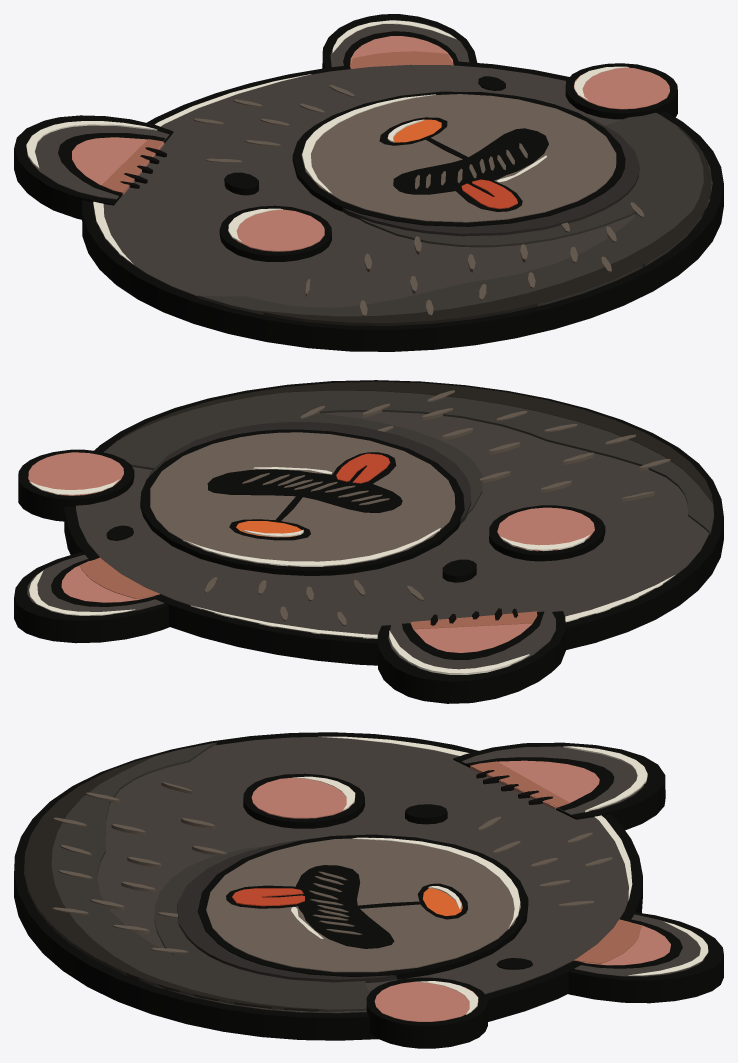
The model's file is IconZustand.glb.
3 views of the same model, one above another, from view 1: azimuth 30°, elevation 25°; view 2: azimuth 150°, elevation 25°; view 3: azimuth 270°, elevation 25° (orthographic). The views are drawn at different scales.
Visible parts, largest first — view 1: IconZustand; view 2: IconZustand; view 3: IconZustand.
Boxes of the visible parts, box(x1,y1,x2,y2) form: IconZustand: box(14, 14, 723, 351); IconZustand: box(14, 380, 723, 703); IconZustand: box(14, 732, 723, 1048).
Size of the model in its own units: 2.05 by 0.1019 by 2.05.
